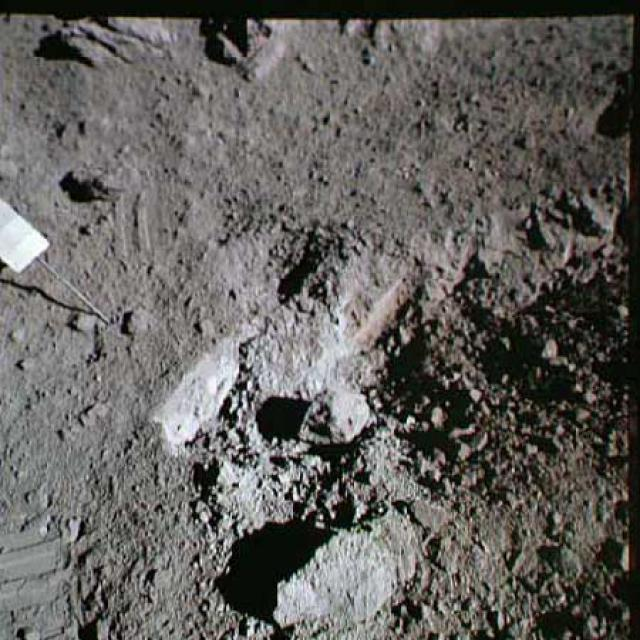artifact: (0, 190, 121, 340)
rock: (256, 516, 397, 639), (42, 5, 178, 85), (326, 15, 503, 66), (200, 8, 306, 85), (289, 375, 374, 444)
